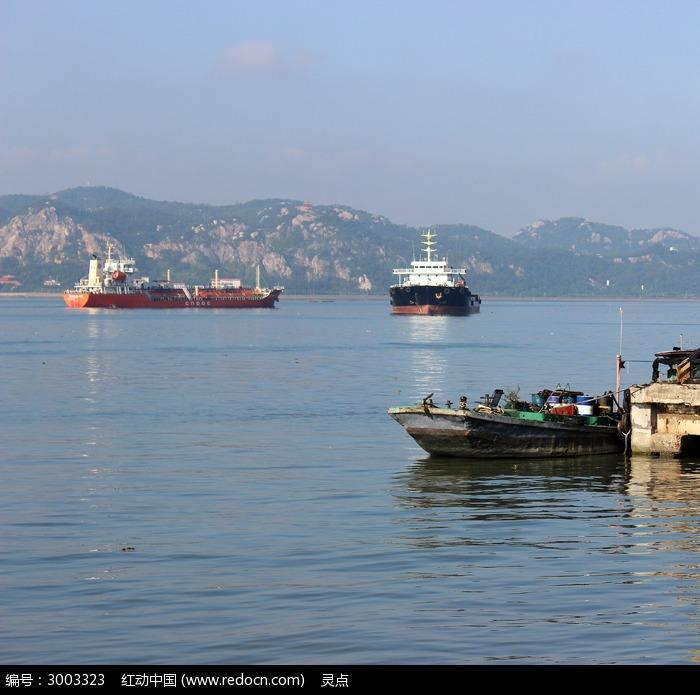Cargoship: (64, 245, 291, 316), (375, 217, 490, 320)
otherboat: (370, 372, 644, 461)
